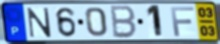0: (83, 7, 110, 39)
1: (146, 4, 165, 39)
6: (54, 6, 78, 39)
B: (110, 4, 138, 40)
F: (169, 5, 196, 37)
N: (26, 7, 53, 39)
